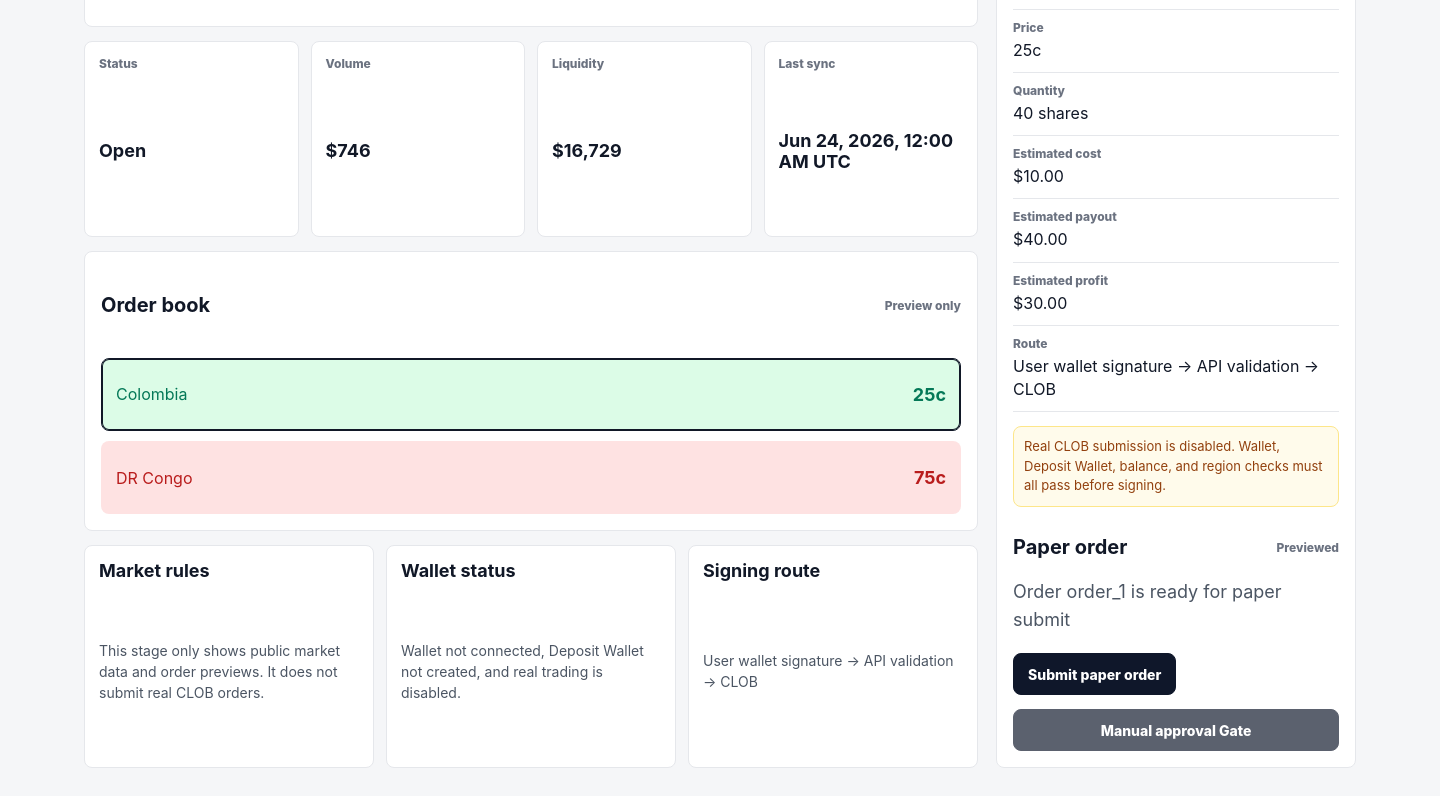
Test: MarketDetailPage › submits a previewed order through the paper lifecycle
The image size is (1440, 796).
(page scrolled)
Click the button "Submit paper order". click: (1095, 674)
box: [1013, 653, 1176, 695]
(page scrolled)
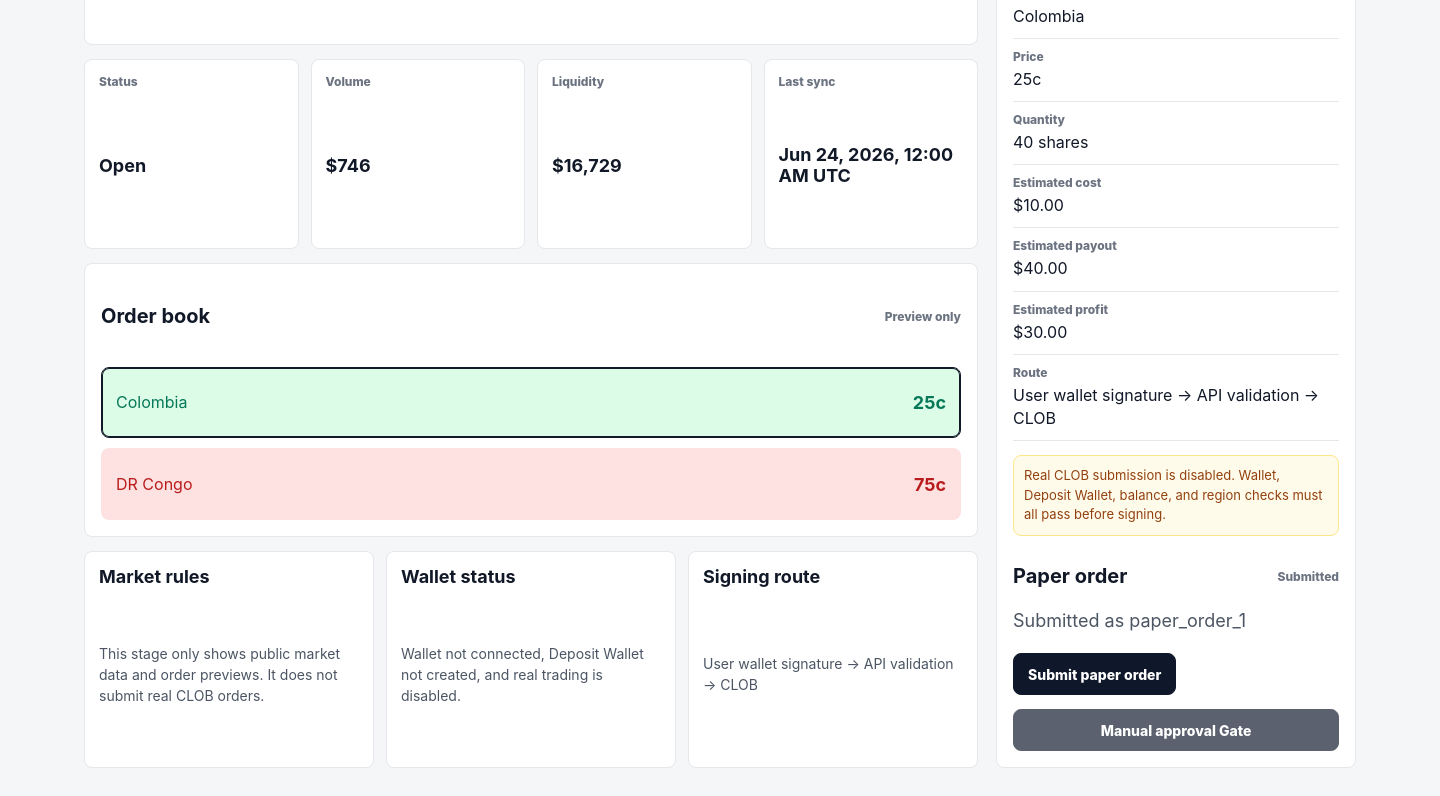
Now the text "Submitted as paper_order_1" is shown, box [1013, 610, 1246, 631]
